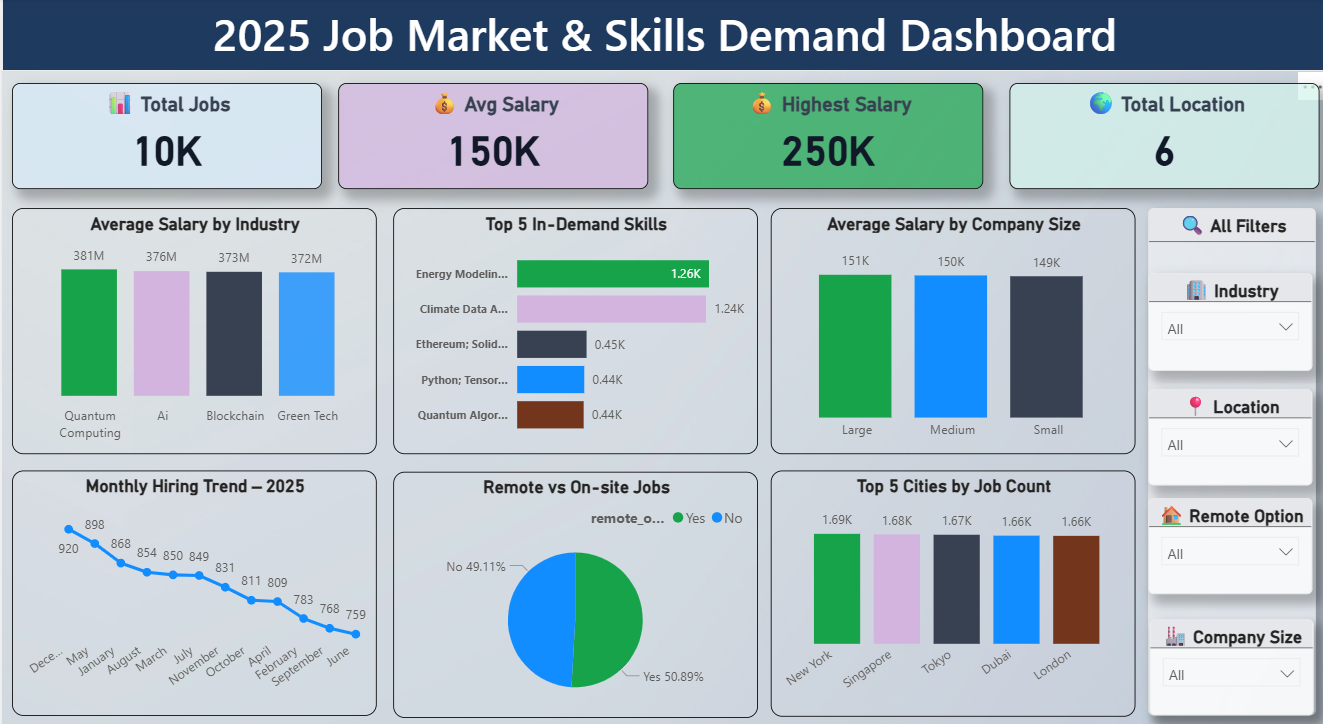

What the dashboard file says about the page in this screenshot:
{"tool":"powerbi","page":{"name":"Page 1","canvas":[1280,720],"ordinal":0},"visuals":[{"type":"textbox","box":[0,0,1280,70],"z":0},{"type":"card","title":"📊 Total Jobs","fields":{"Values":["Count(final_cleaned_job_data.job_id)"]},"box":[9.7,82,299.3,102.5],"z":1000},{"type":"card","title":"💰 Avg Salary","fields":{"Values":["Avg(final_cleaned_job_data.salary_usd)"]},"box":[324.4,82,299.3,102.5],"z":2000},{"type":"card","title":"💰 Highest Salary","fields":{"Values":["Max(final_cleaned_job_data.salary_usd)"]},"box":[647.6,82,299.3,102.5],"z":3000},{"type":"card","title":"🌍 Total Location","fields":{"Values":["final_cleaned_job_data.Total Locations Clean"]},"box":[972.3,82,299.3,102.5],"z":4000},{"type":"columnChart","title":"Average Salary by Industry","fields":{"Category":["final_cleaned_job_data.industry"],"Y":["Sum(final_cleaned_job_data.salary_usd)"]},"box":[9.7,202.7,352,237.7],"z":5000},{"type":"clusteredBarChart","title":"Top 5 In-Demand Skills","fields":{"Category":["final_cleaned_job_data.skills_required"],"Y":["CountNonNull(final_cleaned_job_data.skills_required)"]},"box":[377.6,202.7,352,237.7],"z":6000},{"type":"columnChart","title":"Average Salary by Company Size","fields":{"Y":["Avg(final_cleaned_job_data.salary_usd)"],"Category":["final_cleaned_job_data.company_size"]},"box":[742,202.7,352.3,237.7],"z":7000},{"type":"pieChart","title":"Remote vs On-site Jobs","fields":{"Category":["final_cleaned_job_data.remote_option"],"Y":["CountNonNull(final_cleaned_job_data.remote_option)"]},"box":[377.6,457.2,352.3,237.7],"z":8000},{"type":"lineChart","title":"Monthly Hiring Trend – 2025","fields":{"Y":["CountNonNull(final_cleaned_job_data.job_id)"],"Category":["final_cleaned_job_data.month_name"]},"box":[9.7,456,352.3,237],"z":9000},{"type":"columnChart","title":"Top 5 Cities by Job Count","fields":{"Category":["final_cleaned_job_data.location"],"Y":["CountNonNull(final_cleaned_job_data.job_id)"]},"box":[742,456,352.3,237.7],"z":10000},{"type":"textbox","title":"🔍 All Filters ","box":[1106.3,202.7,161.7,489.8],"z":11000},{"type":"slicer","title":"🏢 Industry","fields":{"Values":["final_cleaned_job_data.industry"]},"box":[1106.3,265.4,158,94.1],"z":12000},{"type":"slicer","title":"📍 Location","fields":{"Values":["final_cleaned_job_data.location"]},"box":[1106.3,377.6,158,92.9],"z":13000},{"type":"slicer","title":"🏠 Remote Option","fields":{"Values":["final_cleaned_job_data.remote_option"]},"box":[1106.3,482.6,158,92.9],"z":14000},{"type":"slicer","title":"🏭 Company Size","fields":{"Values":["final_cleaned_job_data.company_size"]},"box":[1107.5,599.6,158,92.9],"z":15000}]}

Visuals, with their boxes in screenshot pixels (x1, y1, x2, y2), scaled from the page's 1280x720 canvas onto the 1323x724 screenshot:
textbox: 0/0/1322/70
"📊 Total Jobs" card: 10/82/319/186
"💰 Avg Salary" card: 335/82/645/186
"💰 Highest Salary" card: 669/82/979/186
"🌍 Total Location" card: 1005/82/1314/186
"Average Salary by Industry" columnChart: 10/204/374/443
"Top 5 In-Demand Skills" clusteredBarChart: 390/204/754/443
"Average Salary by Company Size" columnChart: 767/204/1131/443
"Remote vs On-site Jobs" pieChart: 390/460/754/699
"Monthly Hiring Trend – 2025" lineChart: 10/459/374/697
"Top 5 Cities by Job Count" columnChart: 767/459/1131/698
"🔍 All Filters " textbox: 1143/204/1311/696
"🏢 Industry" slicer: 1143/267/1307/361
"📍 Location" slicer: 1143/380/1307/473
"🏠 Remote Option" slicer: 1143/485/1307/579
"🏭 Company Size" slicer: 1145/603/1308/696
